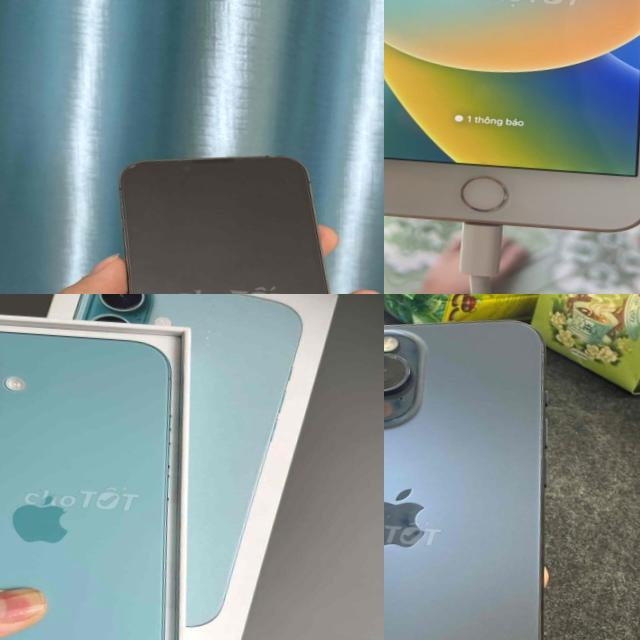gen_12_13: (96, 147, 384, 294)
gen_15: (384, 307, 587, 640)
gen_16: (0, 313, 201, 640)
gen_7_8: (384, 0, 640, 231)
